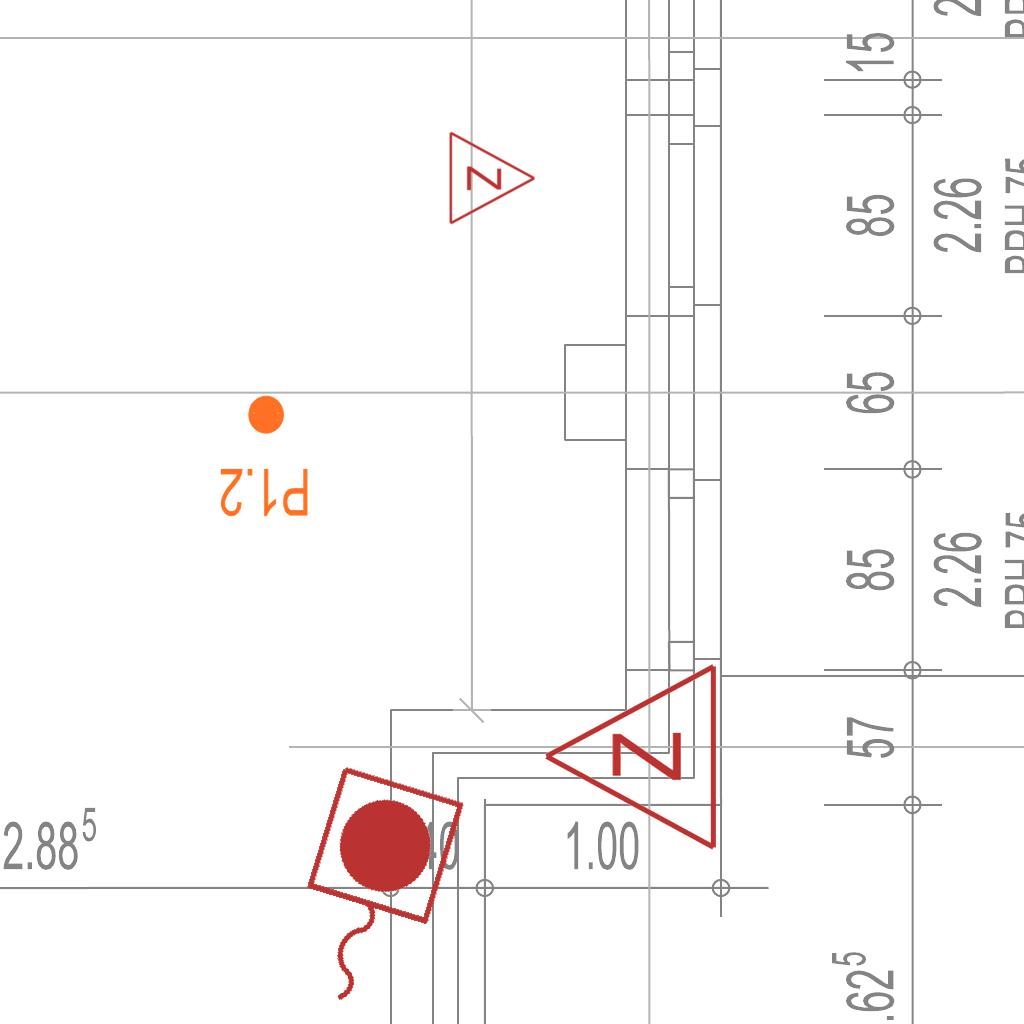Downlight_LED_Einbauleuchten_Flur: (218, 392, 311, 520)
Zimmersignalleuchte: (531, 661, 731, 857), (442, 128, 542, 226)
Zugtaster: (264, 755, 474, 1024)
